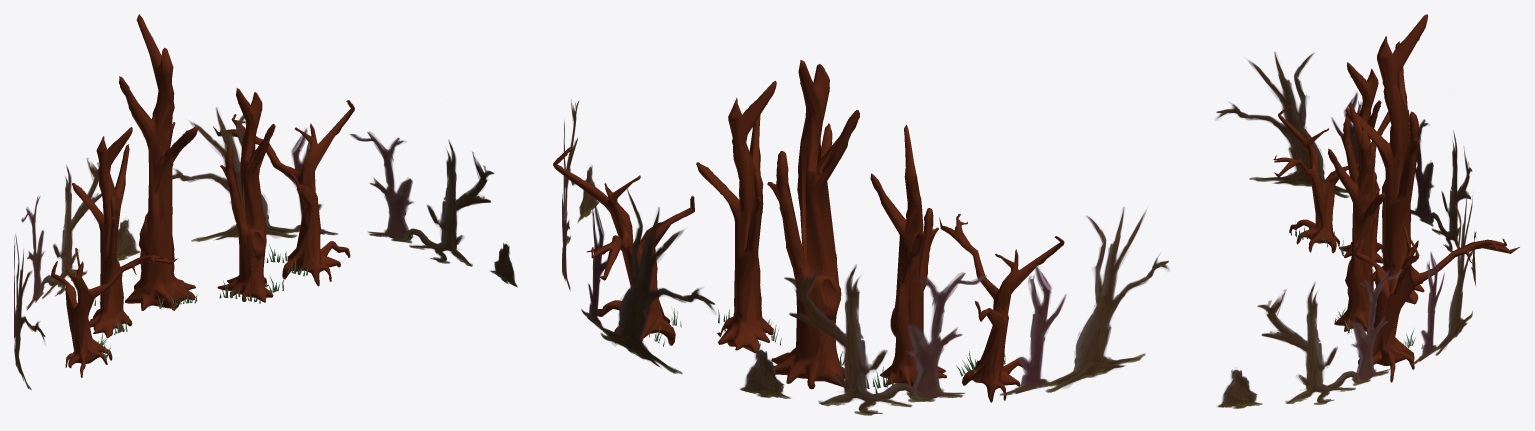
Rendered from carousel_b.glb.
3 renders of one model, left to right at view 1: azimuth 30°, elevation 25°; view 2: azimuth 150°, elevation 25°; view 3: azimuth 270°, elevation 25°, orthographic. The views are drawn at different scales.
Visible parts, largest first — view 1: Cylinder, bgTree_03.001, bgTree_03, bgTree_03.002, bgTree_01.001, bgTree_01.003; view 2: Cylinder, bgTree_03.001, bgTree_03, bgTree_03.002, bgTree_01.003, bgTree_01.001; view 3: Cylinder, bgTree_03.001, bgTree_03, bgTree_01.001, bgTree_01.003, bgTree_03.002.
Part boxes in pixels (box(x1,y1,x2,y2)): Cylinder: box(14, 107, 517, 390); bgTree_03.001: box(119, 14, 198, 310); bgTree_03: box(217, 88, 275, 302); bgTree_03.002: box(72, 127, 132, 337); bgTree_01.001: box(213, 100, 354, 286); bgTree_01.003: box(51, 248, 177, 377); Cylinder: box(562, 99, 1169, 415); bgTree_03.001: box(767, 60, 859, 389); bgTree_03: box(696, 80, 776, 353); bgTree_03.002: box(870, 124, 946, 386); bgTree_01.003: box(939, 214, 1064, 402); bgTree_01.001: box(553, 147, 694, 345); Cylinder: box(1215, 52, 1476, 408); bgTree_03.001: box(1345, 14, 1427, 304); bgTree_03: box(1328, 102, 1385, 333); bgTree_01.001: box(1353, 223, 1519, 382); bgTree_01.003: box(1273, 105, 1358, 253); bgTree_03.002: box(1339, 62, 1389, 266).
Size of the model in its own units: 9.24 by 5.39 by 5.36.
3 materials, 2 textured.
